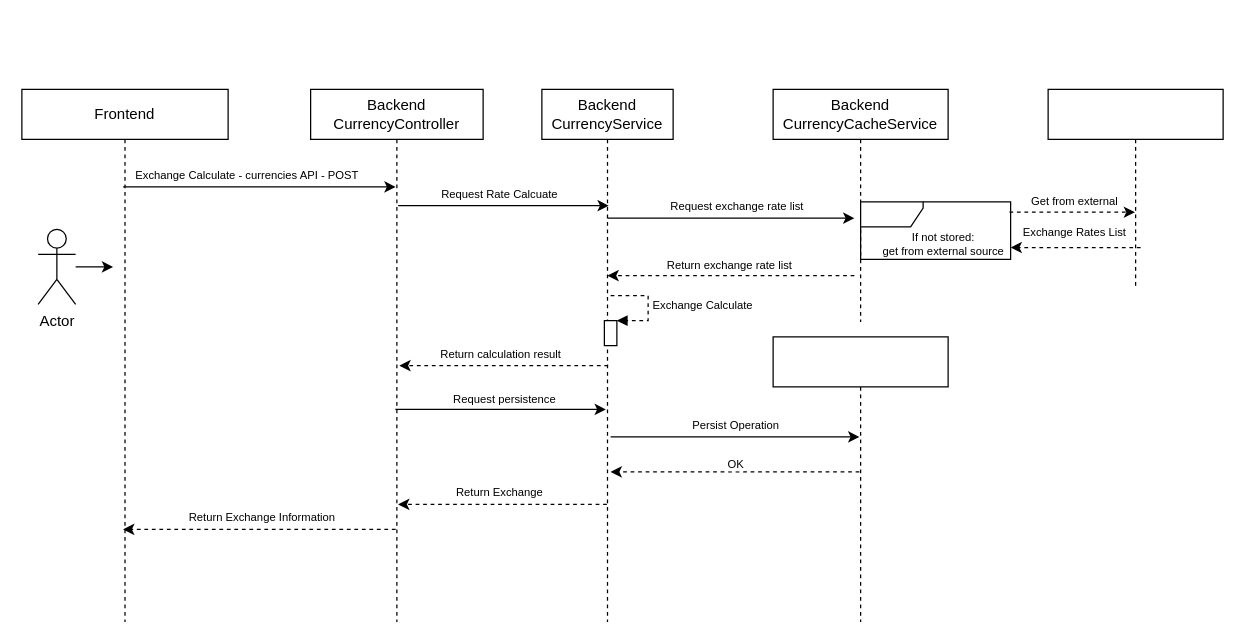
The diagram is 1245 pixels wide and 644 high, and some of its shapes have lost their labels. The shapes that lost their labels are listed below. From the top down, each one's box as (x1, y1, x2, y2) in pixels, then its label:
(1047, 88, 1223, 289): External Source (API, DB, Other)
(859, 201, 1011, 259): Stored?
(772, 336, 948, 622): Database In Memory
